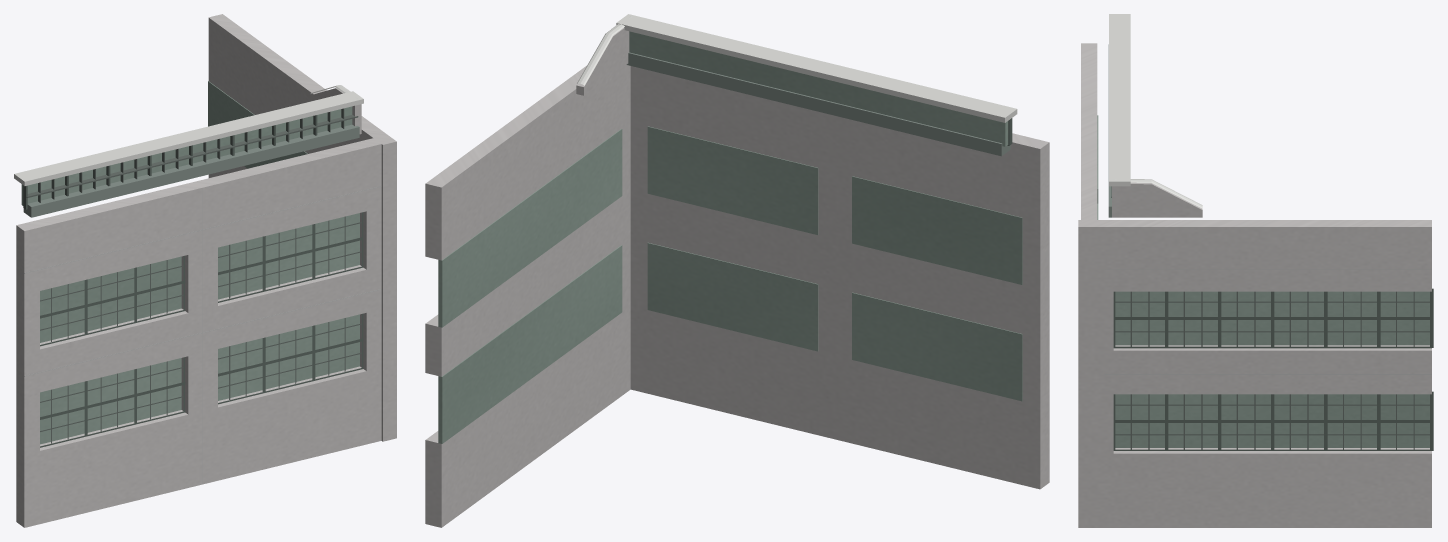
Rendered from west-bund-art-centre-ribbon-corner-far.glb.
3 renders of one model, left to right at view 1: azimuth 30°, elevation 25°; view 2: azimuth 150°, elevation 25°; view 3: azimuth 270°, elevation 25°, orthographic. The views are drawn at different scales.
Parts seen in each view (by area): view 1: 西岸艺术中心转角的两层钢格带窗与屋面采光窗; view 2: 西岸艺术中心转角的两层钢格带窗与屋面采光窗; view 3: 西岸艺术中心转角的两层钢格带窗与屋面采光窗.
Boxes of the visible parts, x1=… form: 西岸艺术中心转角的两层钢格带窗与屋面采光窗: x1=14, y1=14, x2=396, y2=527; 西岸艺术中心转角的两层钢格带窗与屋面采光窗: x1=425, y1=14, x2=1049, y2=527; 西岸艺术中心转角的两层钢格带窗与屋面采光窗: x1=1078, y1=14, x2=1433, y2=527.
Size of the model in its own units: 3.01 by 2.58 by 2.46.
Materials: 7 (2 with a texture image).
